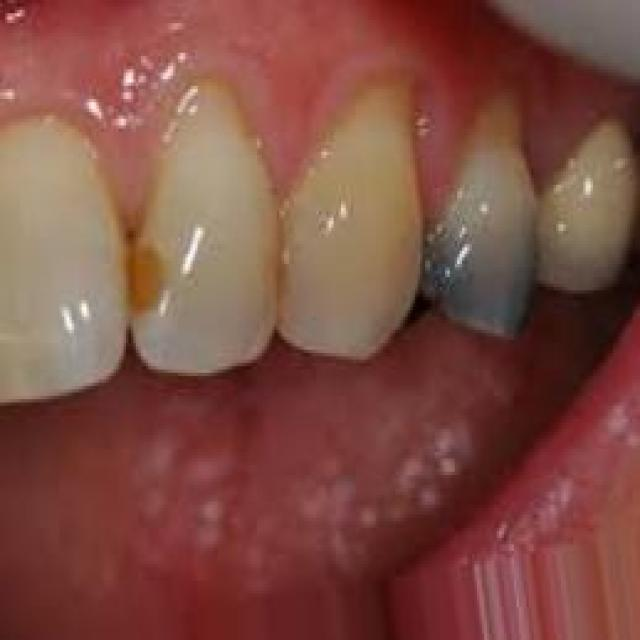caries: (118, 225, 178, 321)
